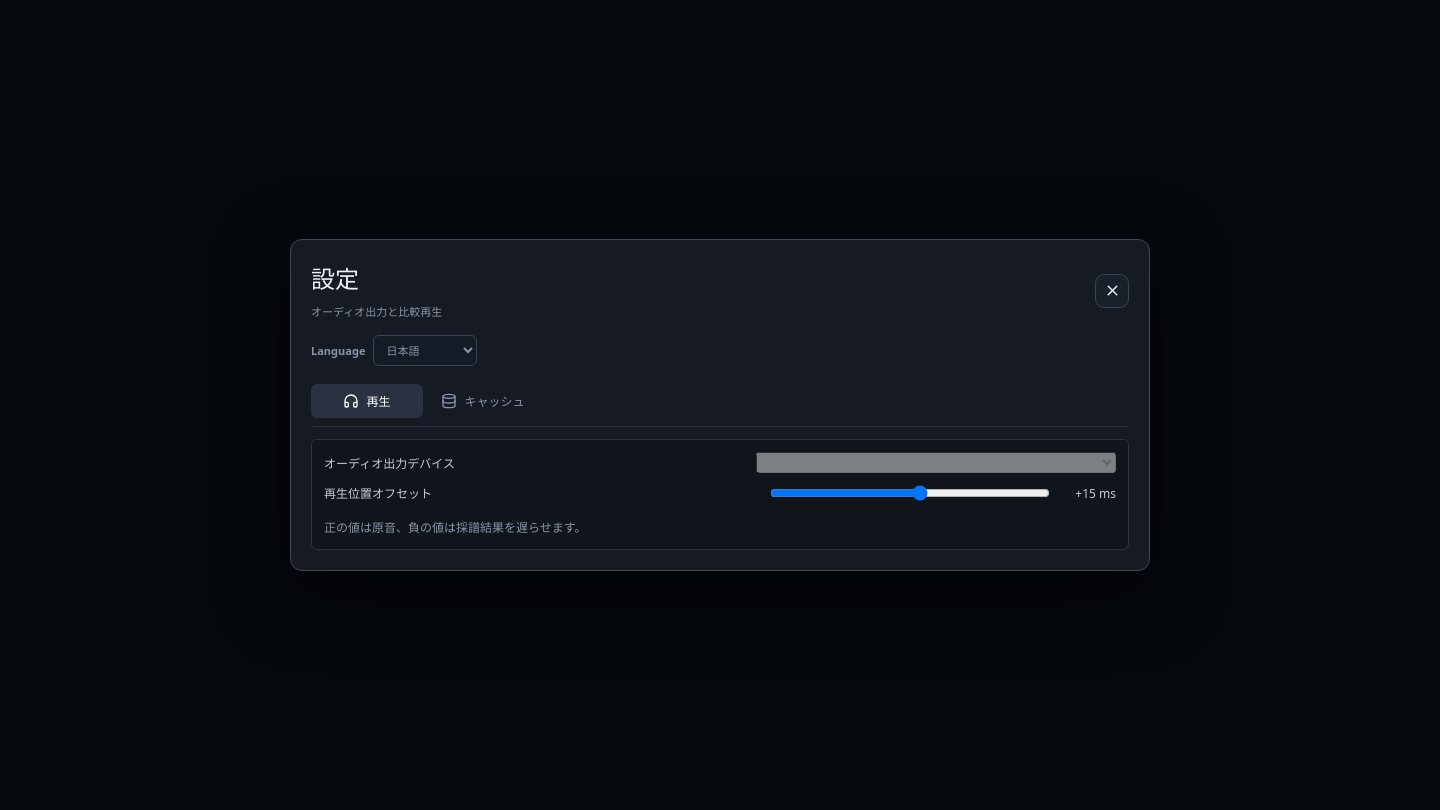
Scenario: SettingsDialog › changes and persists the display language
Select "English" in the dropdown labelled "Language": (425, 350) 373,335 -> 477,366
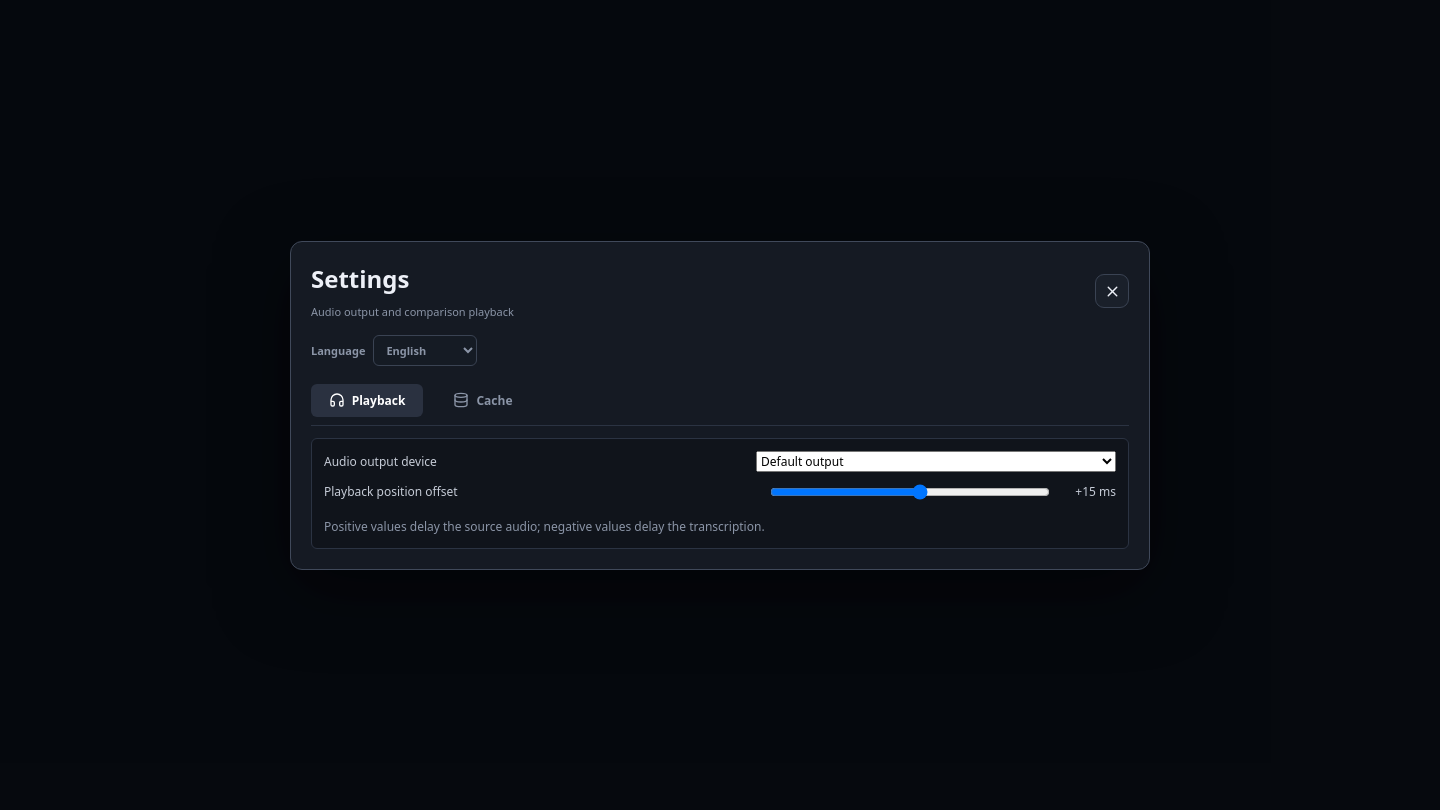
Expected: the heading "Settings" is shown, 311,262 -> 410,294
Result: the tab "Playback" is shown at 311,384 -> 423,416
